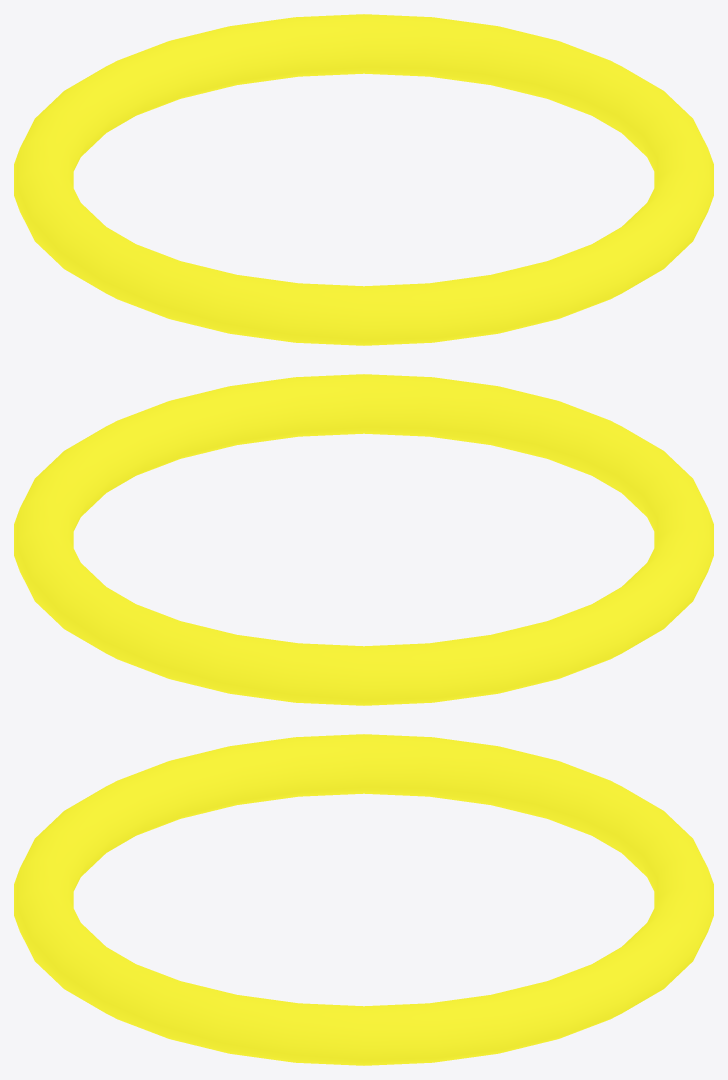
Rendered from ring.glb.
3 views of the same model, one above another, from view 1: azimuth 30°, elevation 25°; view 2: azimuth 150°, elevation 25°; view 3: azimuth 270°, elevation 25° (orthographic).
Visible parts, largest first — view 1: ring; view 2: ring; view 3: ring.
Boxes of the visible parts, x1,y1,x2,y2 form: ring: (14, 14, 713, 345); ring: (14, 374, 713, 705); ring: (14, 734, 713, 1065).
Bounding box in the file's own units: 1.64 × 0.1331 × 1.63.
